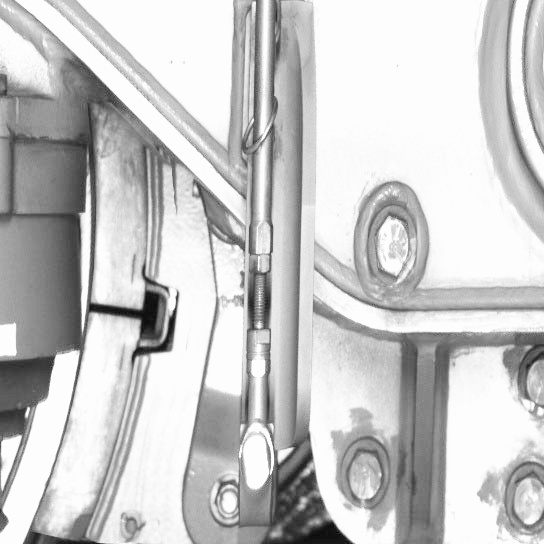ClosedKnifeSwitch: (22, 137, 144, 540)
